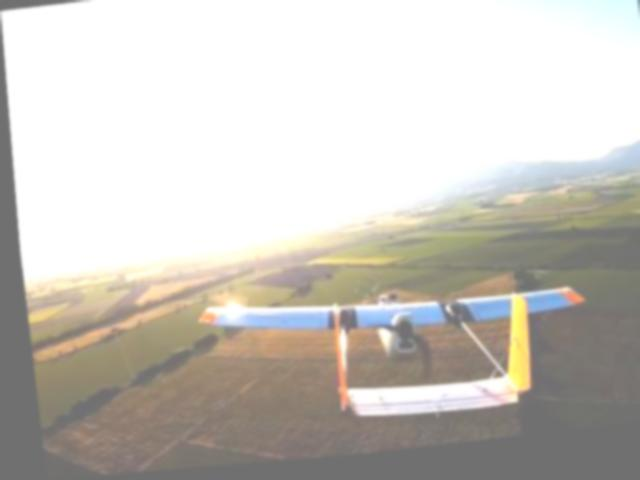uav: (188, 264, 590, 445)
